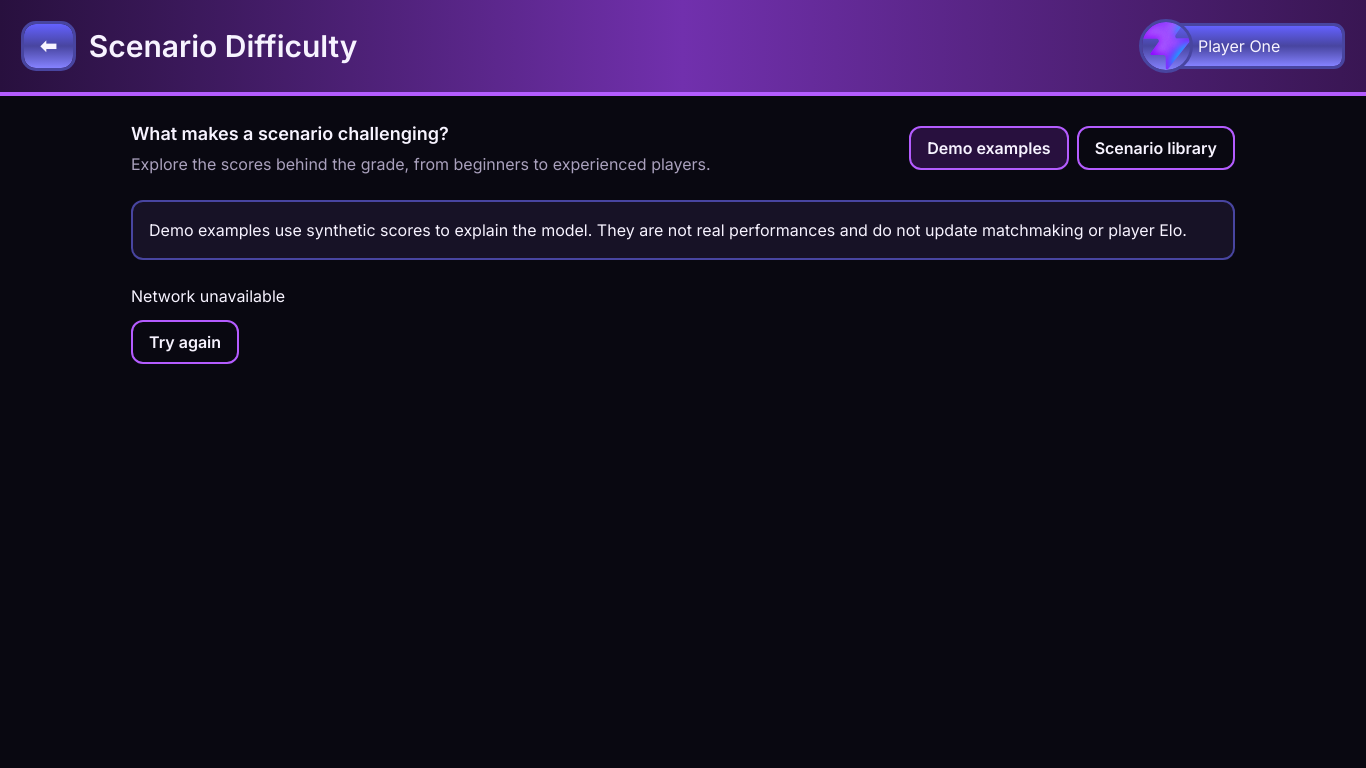
Test: scenario difficulty explorer › retries catalog failures and renders an empty library
This screenshot has width=1366, height=768.
Expected: the message reads "Network unavailable", [131,286,285,306]
Click the button "Try again" at (185, 342), box [131,320,239,364]
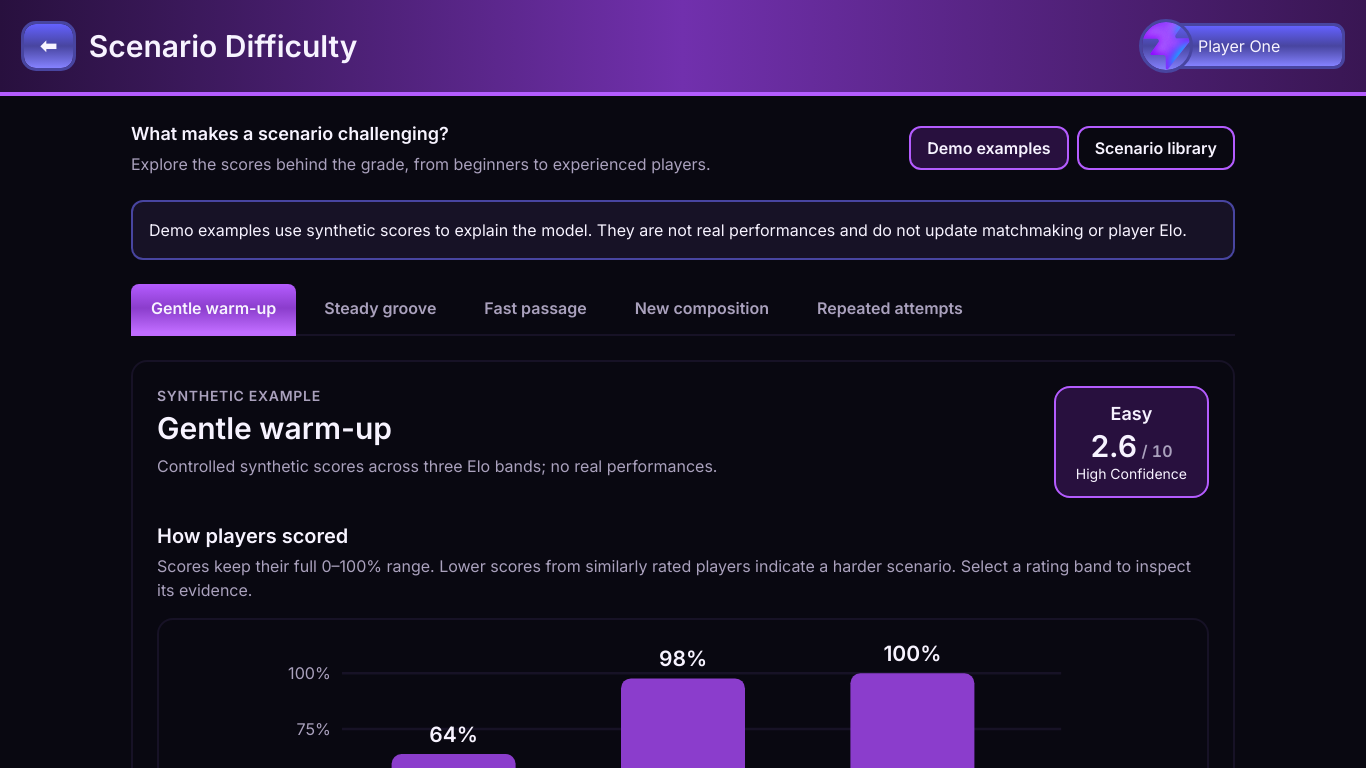
Expected: the tab "Gentle warm-up" is shown, [131,284,296,336]
Click the button "Scenario library" at (1156, 148), box [1077,126,1235,170]
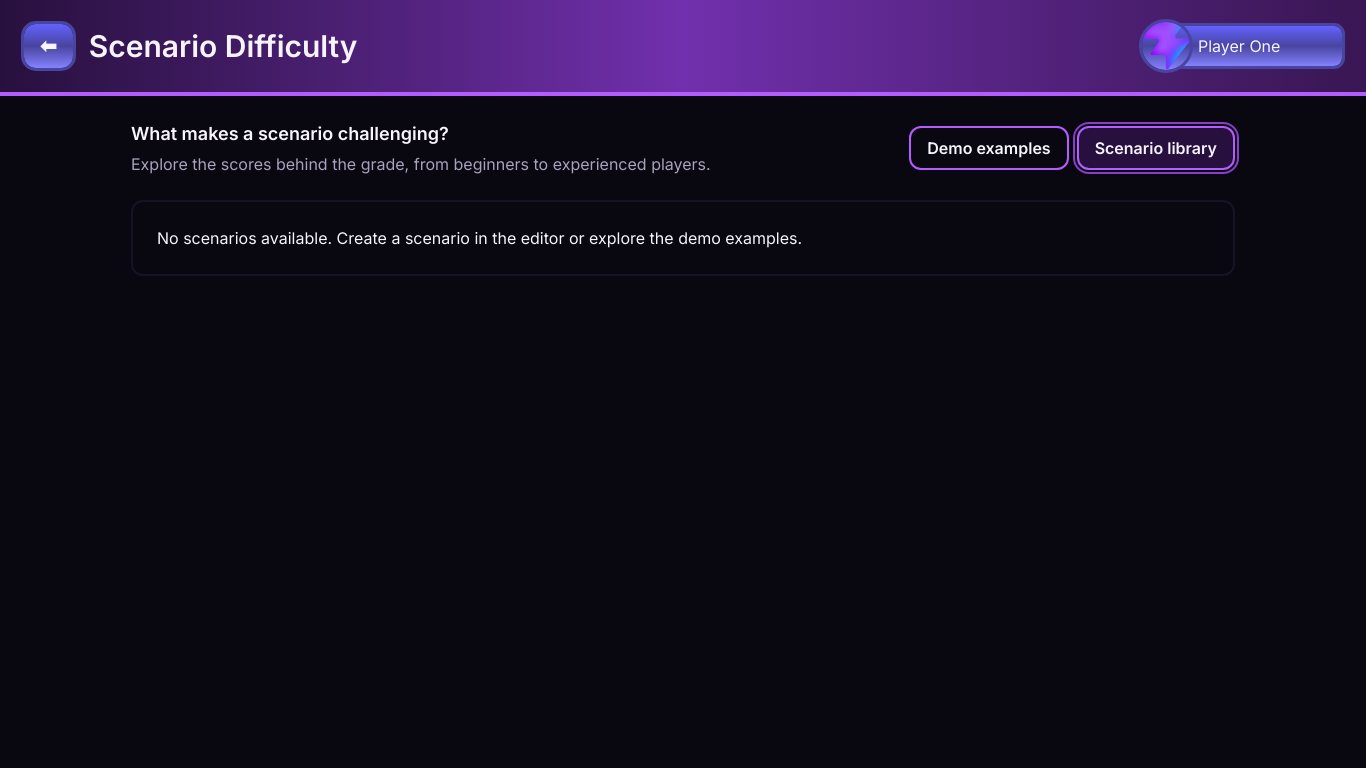
Expected: the text "No scenarios available" is shown, [157,228,802,248]
